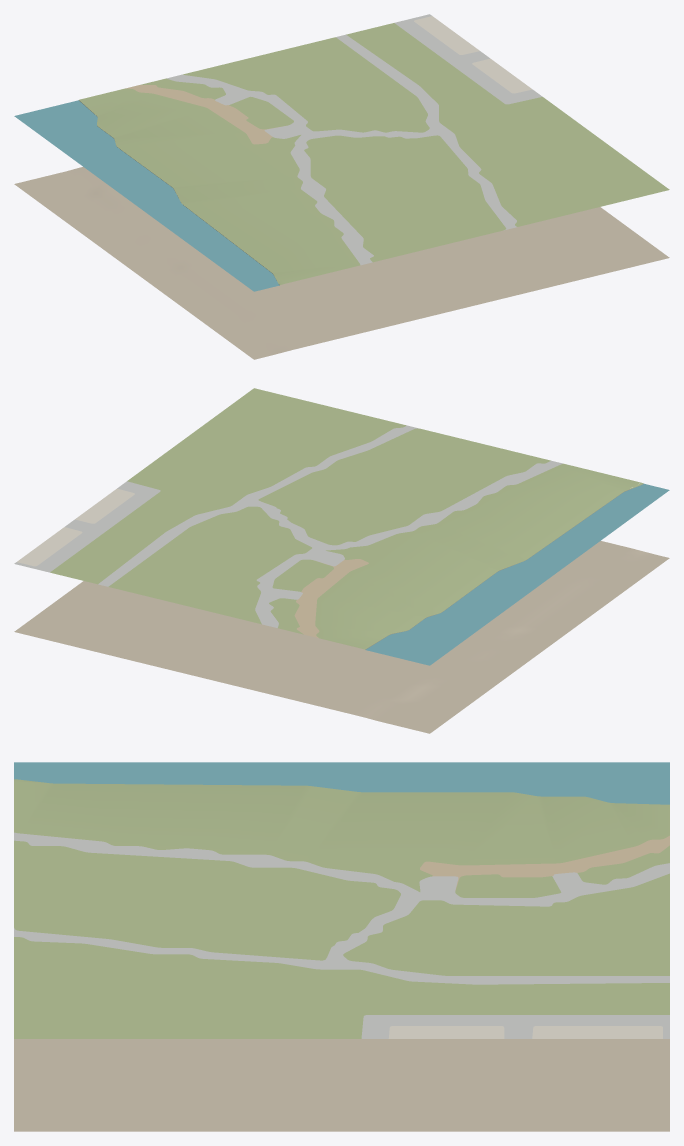
3 renders of one model, top to bottom at view 1: azimuth 30°, elevation 25°; view 2: azimuth 150°, elevation 25°; view 3: azimuth 270°, elevation 25°, orthographic. The views are drawn at different scales.
Visible parts, largest first — view 1: s_-12_4__grass, s_-12_4__soil, s_-12_4__water, s_-12_4__stone_paving, s_-12_4__paving, s_-12_4__timber_deck; view 2: s_-12_4__grass, s_-12_4__soil, s_-12_4__stone_paving, s_-12_4__water, s_-12_4__paving, s_-12_4__timber_deck; view 3: s_-12_4__grass, s_-12_4__soil, s_-12_4__water, s_-12_4__stone_paving, s_-12_4__timber_deck, s_-12_4__paving.
Part boxes in pixels (<box>): s_-12_4__grass: <box>79,23,669,284</box>; s_-12_4__soil: <box>14,167,669,359</box>; s_-12_4__water: <box>14,100,279,291</box>; s_-12_4__stone_paving: <box>166,14,542,265</box>; s_-12_4__paving: <box>414,16,532,93</box>; s_-12_4__timber_deck: <box>125,85,286,144</box>; s_-12_4__grass: <box>50,388,643,649</box>; s_-12_4__soil: <box>14,541,669,733</box>; s_-12_4__stone_paving: <box>14,425,562,627</box>; s_-12_4__water: <box>366,483,669,665</box>; s_-12_4__paving: <box>17,488,134,566</box>; s_-12_4__timber_deck: <box>294,559,368,638</box>; s_-12_4__grass: <box>14,779,669,1038</box>; s_-12_4__soil: <box>14,1039,669,1131</box>; s_-12_4__water: <box>14,762,669,804</box>; s_-12_4__stone_paving: <box>14,832,669,1038</box>; s_-12_4__timber_deck: <box>420,835,669,890</box>; s_-12_4__paving: <box>388,1026,662,1038</box>.
Size of the model in its own units: 128 by 20.14 by 128.
